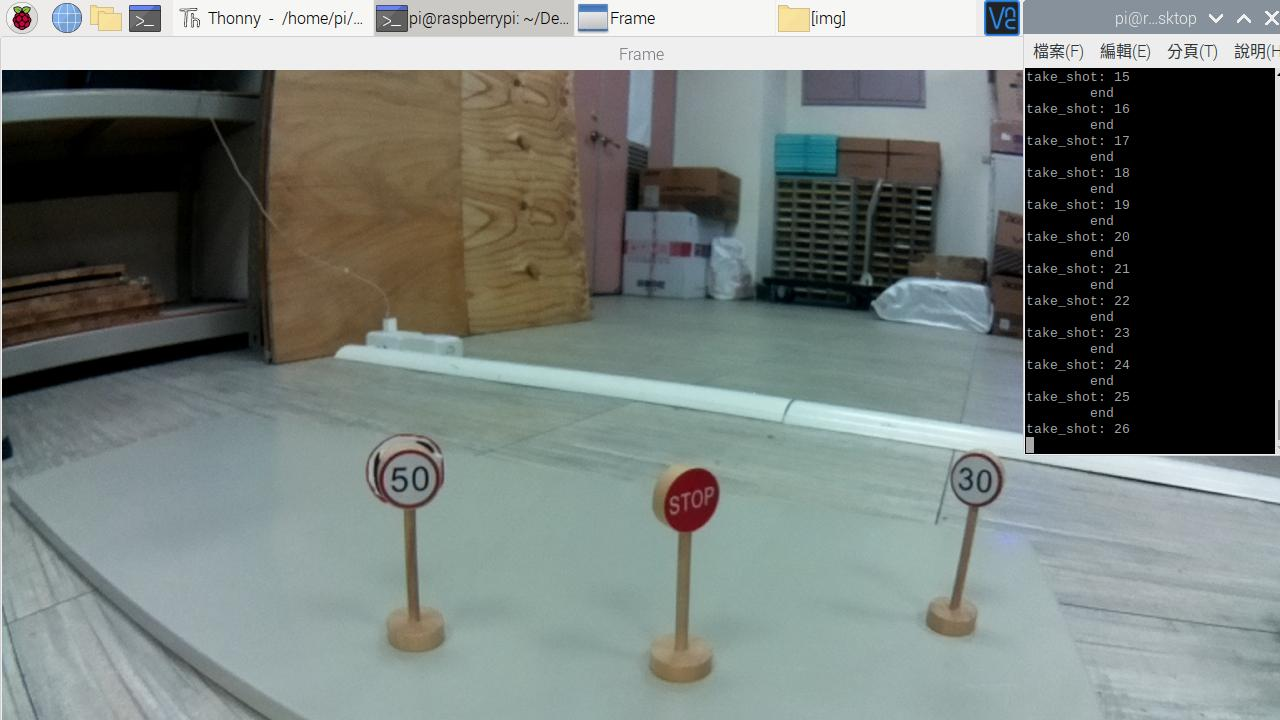Speed30: (953, 447, 1007, 512)
Speed50: (374, 436, 438, 507)
Stop: (651, 465, 727, 531)
